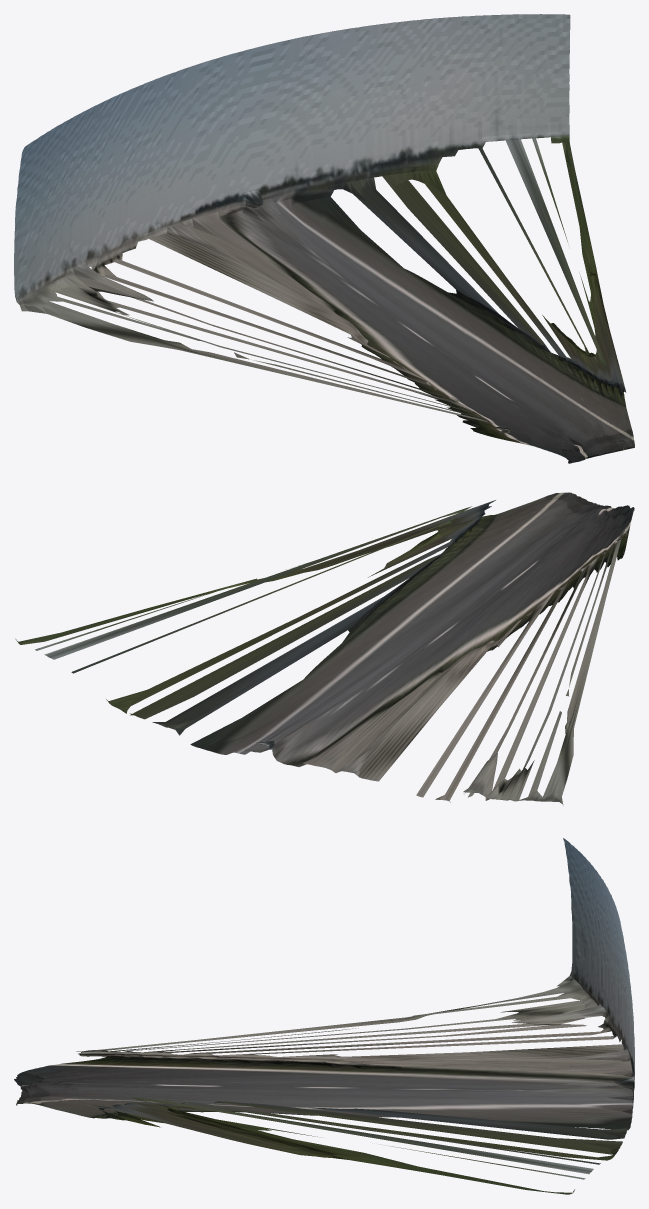
3 views of the same model, one above another, from view 1: azimuth 30°, elevation 25°; view 2: azimuth 150°, elevation 25°; view 3: azimuth 270°, elevation 25° (orthographic). The views are drawn at different scales.
Visible parts, largest first — view 1: defaultobject; view 2: defaultobject; view 3: defaultobject.
Boxes of the visible parts, x1,y1,x2,y2 form: defaultobject: [14, 14, 634, 463]; defaultobject: [15, 492, 634, 805]; defaultobject: [14, 838, 634, 1194].
Size of the model in its own units: 41.16 by 12.81 by 44.57.
Materials: 1 (1 with a texture image).
